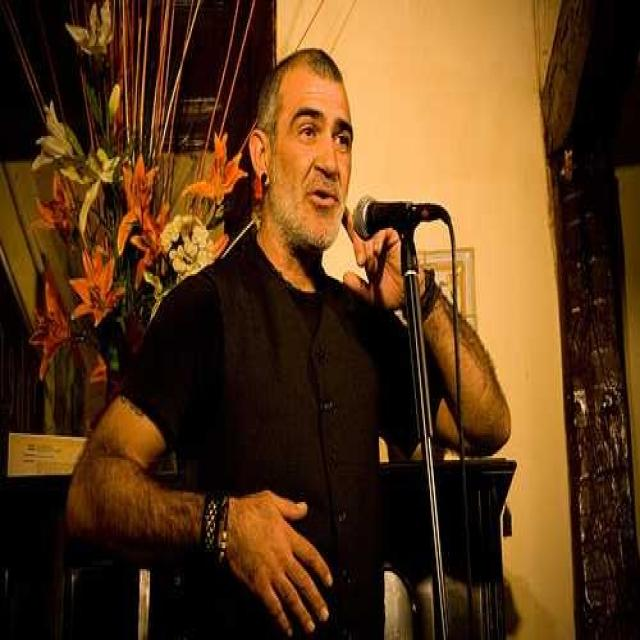microphone: (351, 192, 442, 243)
